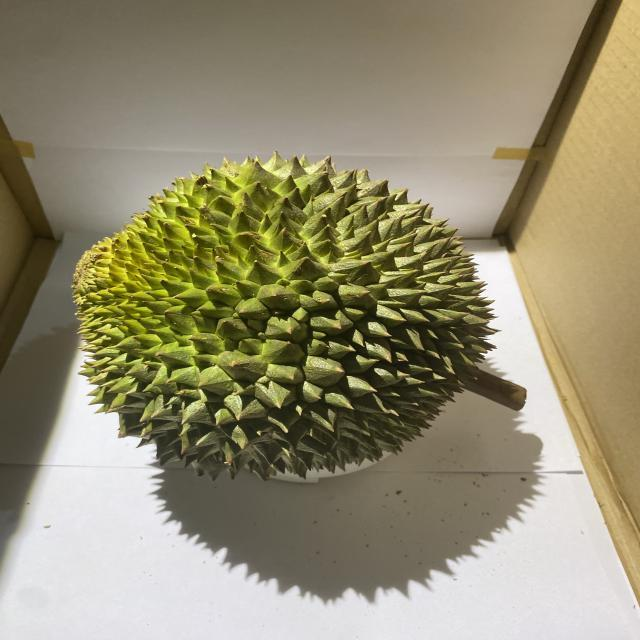immature: (68, 149, 498, 483)
